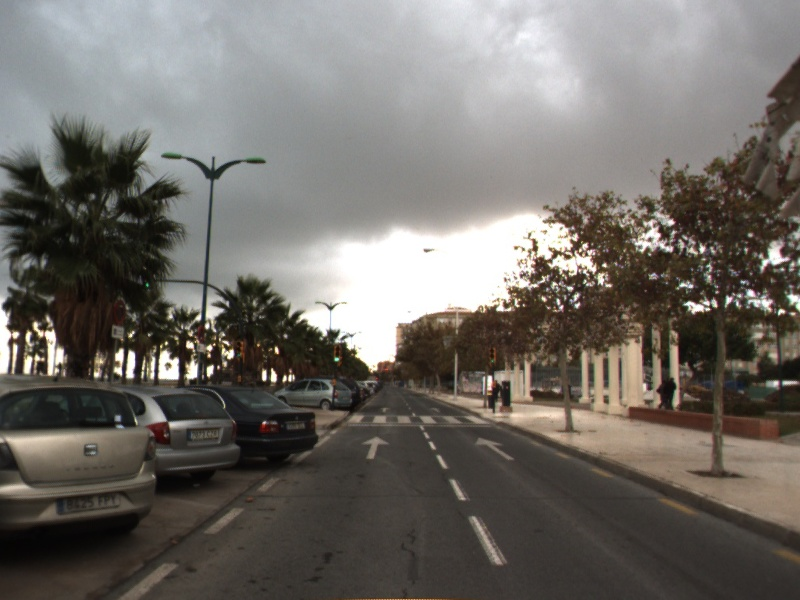STRAIGHT: (473, 436, 516, 461), (360, 435, 392, 460)
